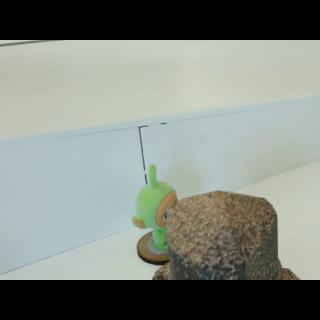teletubby: (132, 164, 177, 249)
